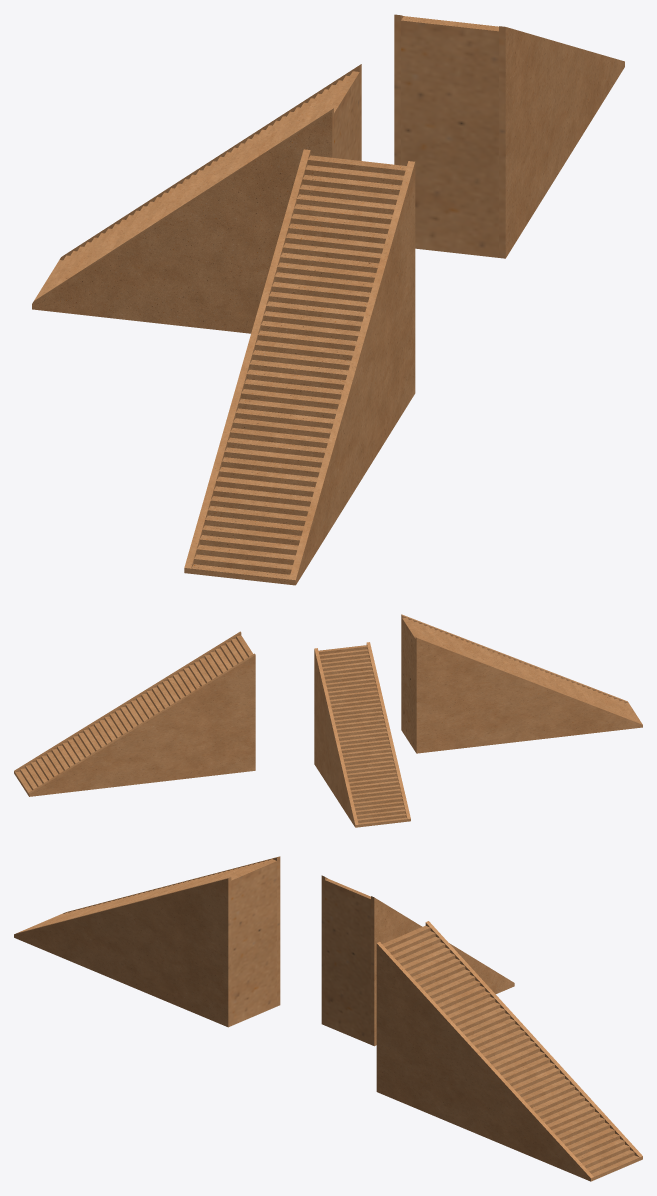
File: Zigurat_Stairs_Complete.fbx
The picture shows the model from 3 angles, top to bottom: view 1: azimuth 30°, elevation 25°; view 2: azimuth 150°, elevation 25°; view 3: azimuth 270°, elevation 25°; orthographic projection. The views are drawn at different scales.
Parts seen in each view (by area): view 1: StraightStair001_2, Zigurat_Stairs_Complete, StraightStair001_1, Stair_Zigurat__2_, Stair_Zigurat__1_, StraightStair001; view 2: Stair_Zigurat__1_, Stair_Zigurat__2_, StraightStair001, StraightStair001_1, StraightStair001_2, Zigurat_Stairs_Complete; view 3: Stair_Zigurat__1_, Stair_Zigurat__2_, StraightStair001_1, StraightStair001_2, StraightStair001, Zigurat_Stairs_Complete.
Part boxes in pixels (x1=…): StraightStair001_2: x1=191, y1=155, x2=406, y2=584; Zigurat_Stairs_Complete: x1=32, y1=64, x2=361, y2=333; StraightStair001_1: x1=401, y1=16, x2=498, y2=257; Stair_Zigurat__2_: x1=184, y1=149, x2=415, y2=585; Stair_Zigurat__1_: x1=394, y1=14, x2=624, y2=258; StraightStair001: x1=34, y1=71, x2=359, y2=300; Stair_Zigurat__1_: x1=14, y1=631, x2=255, y2=796; Stair_Zigurat__2_: x1=401, y1=614, x2=642, y2=753; StraightStair001: x1=318, y1=645, x2=407, y2=827; StraightStair001_1: x1=15, y1=635, x2=253, y2=794; StraightStair001_2: x1=402, y1=617, x2=641, y2=751; Zigurat_Stairs_Complete: x1=314, y1=642, x2=410, y2=827; Stair_Zigurat__1_: x1=376, y1=921, x2=642, y2=1181; Stair_Zigurat__2_: x1=14, y1=856, x2=280, y2=1027; StraightStair001_1: x1=382, y1=925, x2=639, y2=1180; StraightStair001_2: x1=18, y1=859, x2=276, y2=1025; StraightStair001: x1=325, y1=878, x2=370, y2=1044; Zigurat_Stairs_Complete: x1=321, y1=875, x2=514, y2=1046.
Bounding box in the file's own units: 5791 × 1510 × 5783.
1 material, 1 textured.
